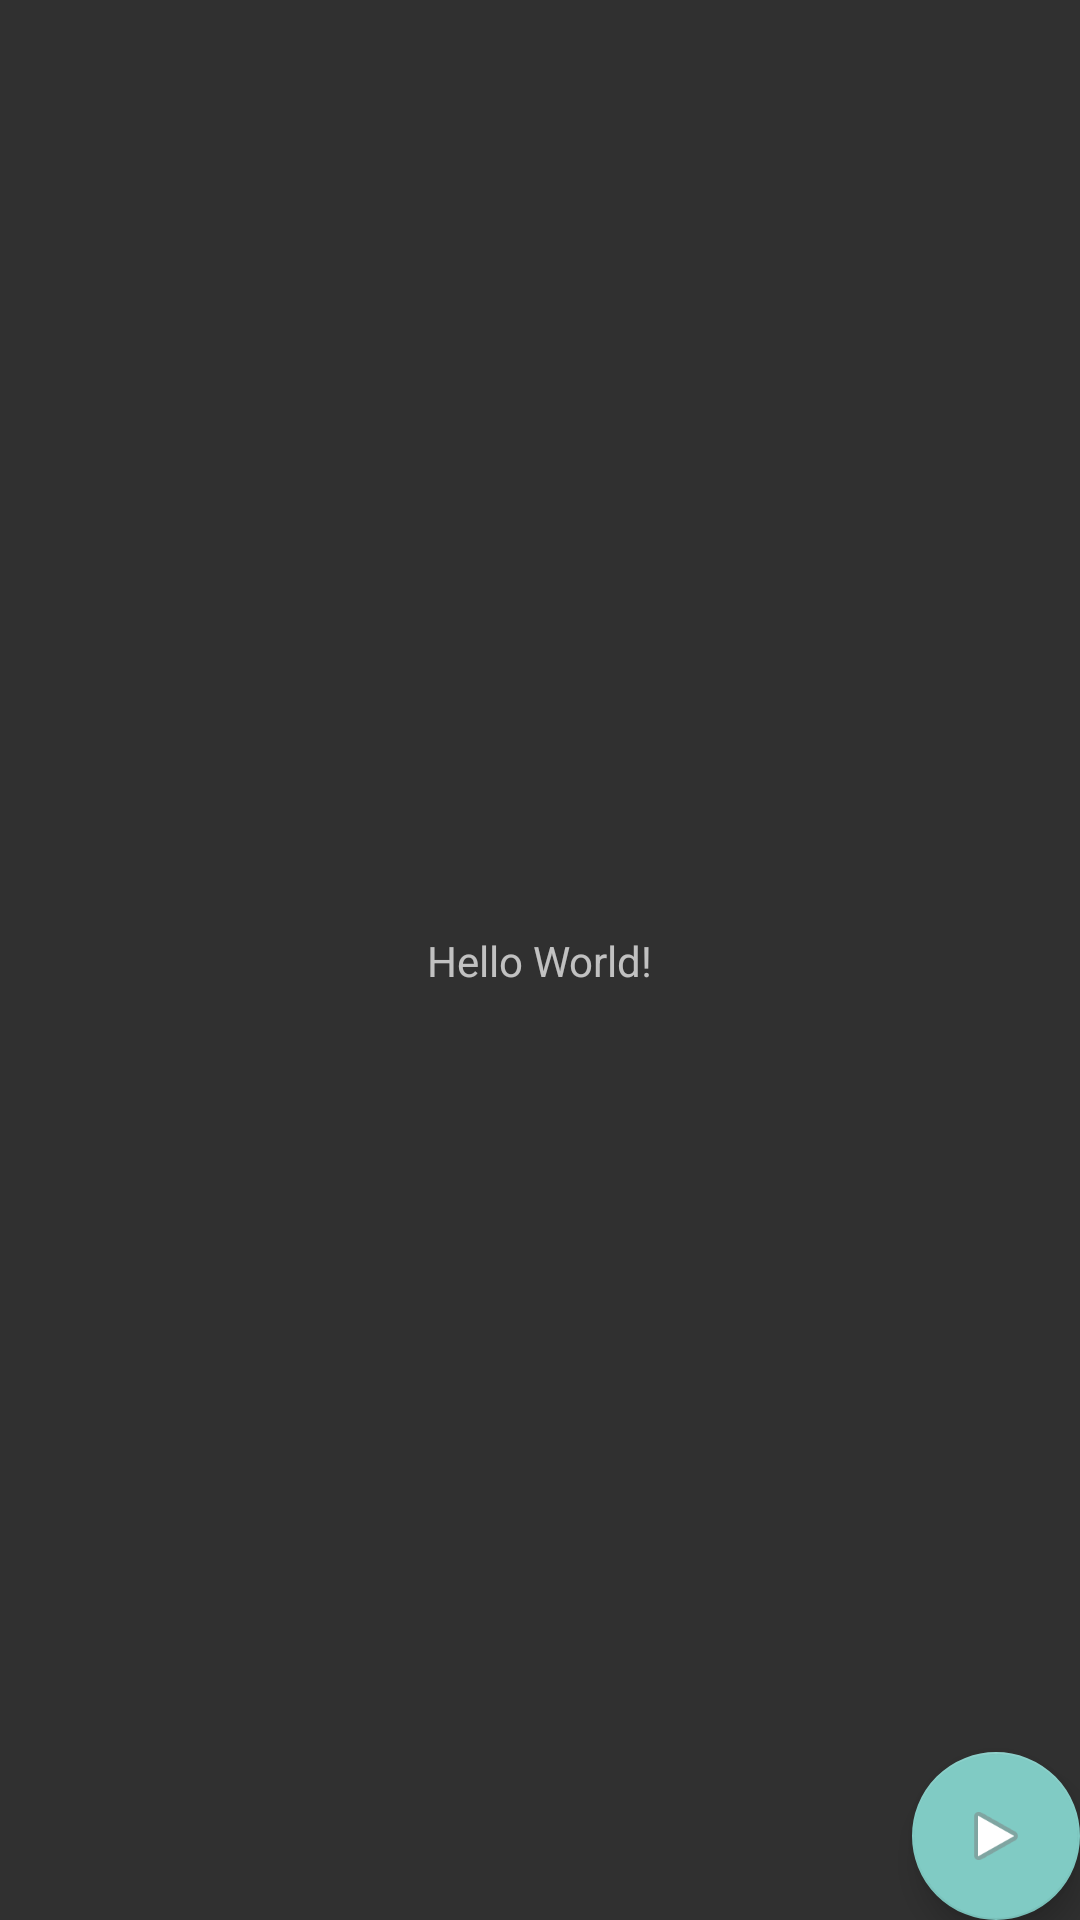

Where icons sit on this 1080 x 1920 app screen, as (x1, y1, x2, y2):
play: (912, 1752, 1080, 1920)
